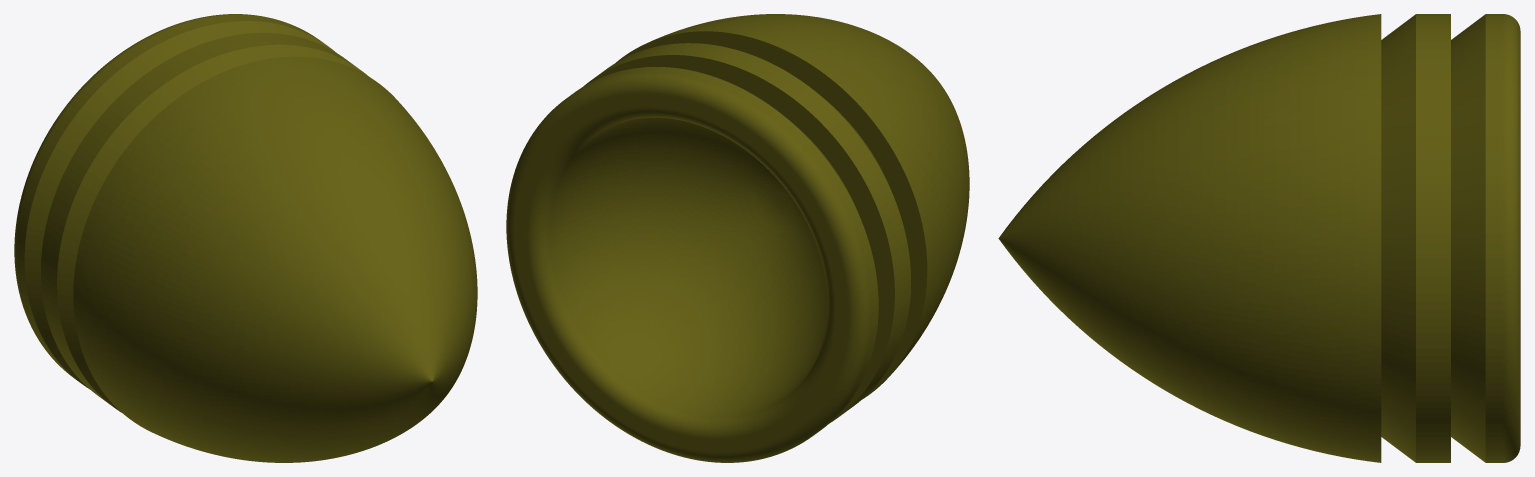
File: LRAS_Round.fbx
The picture shows the model from 3 angles, left to right: view 1: azimuth 30°, elevation 25°; view 2: azimuth 150°, elevation 25°; view 3: azimuth 270°, elevation 25°; orthographic projection. The views are drawn at different scales.
Parts seen in each view (by area): view 1: Projectile round LRAS; view 2: Projectile round LRAS; view 3: Projectile round LRAS.
Part boxes in pixels (box(x1,y1,x2,y2)): Projectile round LRAS: box(14, 14, 477, 462); Projectile round LRAS: box(506, 14, 969, 462); Projectile round LRAS: box(998, 14, 1520, 462).
Bounding box in the file's own units: 25.8 × 25.8 × 30.
